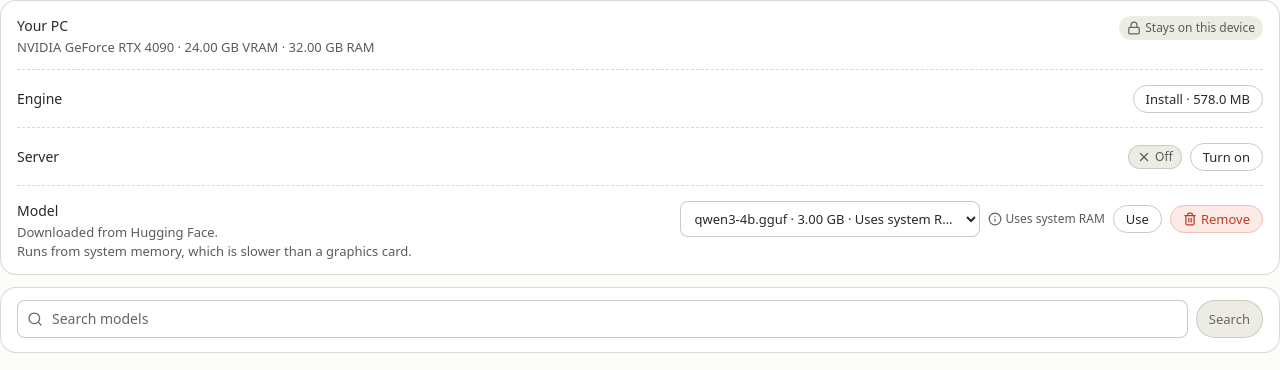
it: installs the engine from its row and then shows the pinned build
Expected: the dropdown named "Local model" is shown, [680,201,980,237]
Click the button "Install · 578.0 MB": (1198, 99) [1132,85,1263,113]
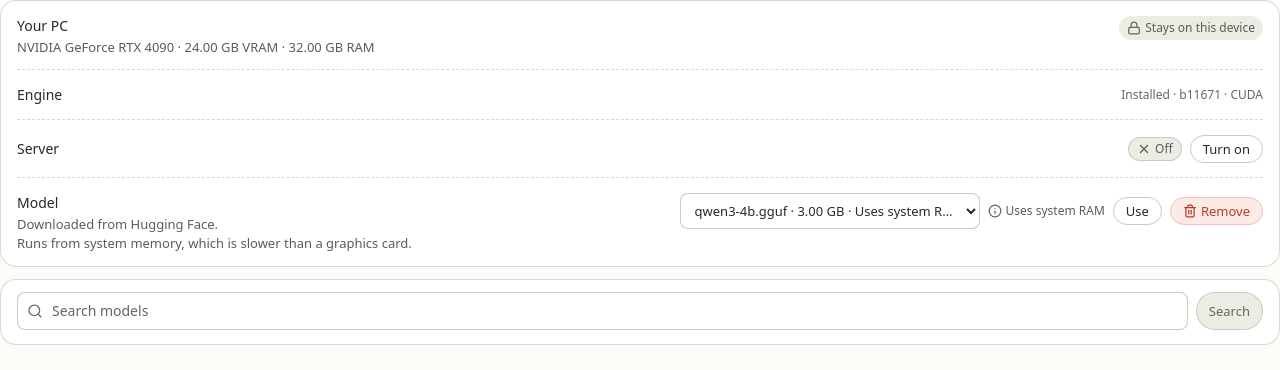
Now the text "Installed · b11671 · CUDA" is shown, box [1121,87,1263,103]
